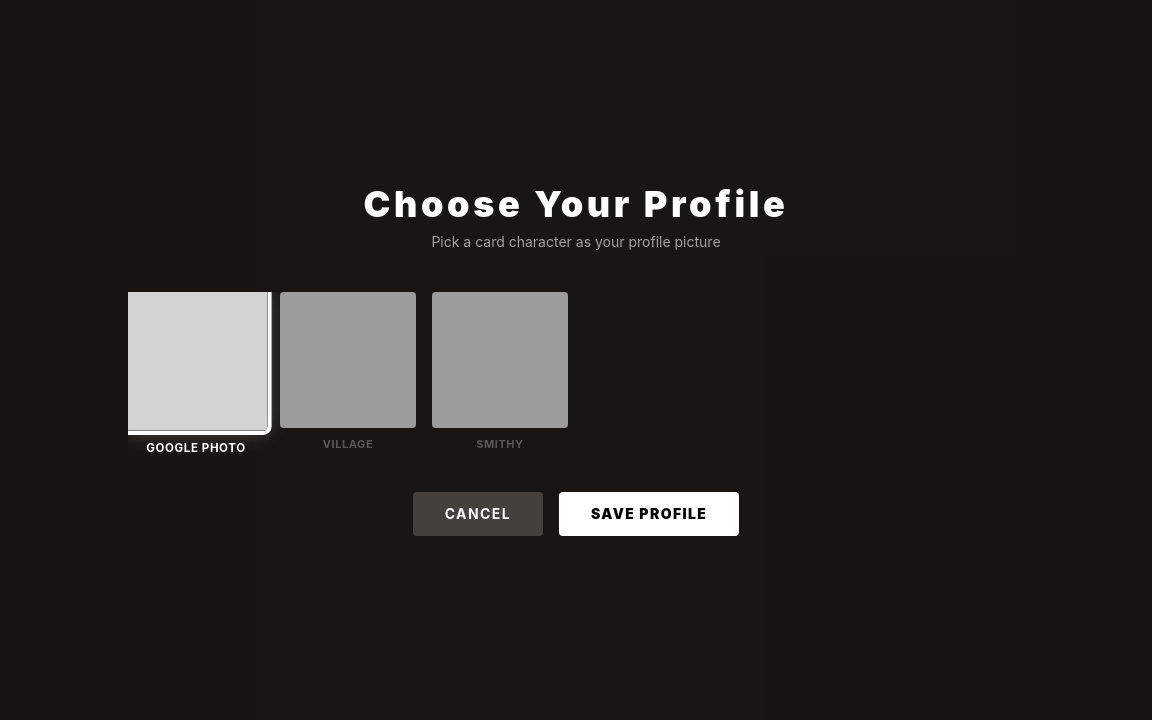
Scenario: AvatarPickerModal › Accessibility › should disable Save button when saving is in progress
This screenshot has width=1152, height=720.
Click the button "Save Profile".
click(649, 514)  # box [559,492,739,536]
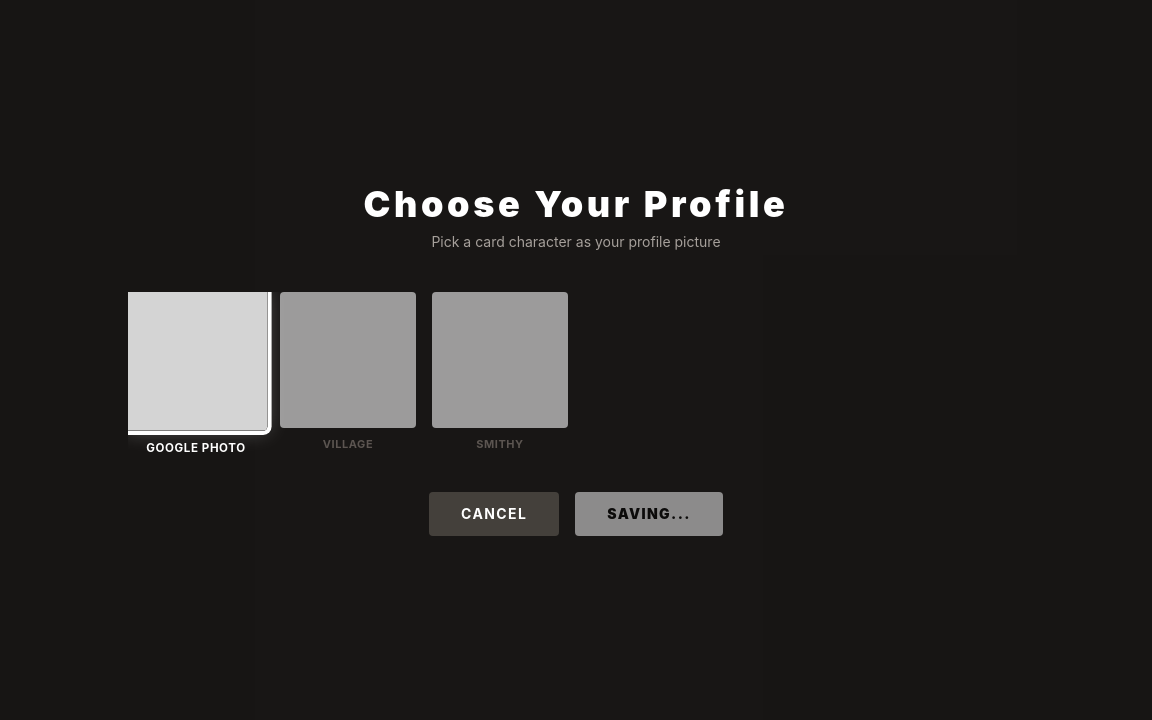
Now the button "Saving..." is disabled, box [575,492,723,536]
